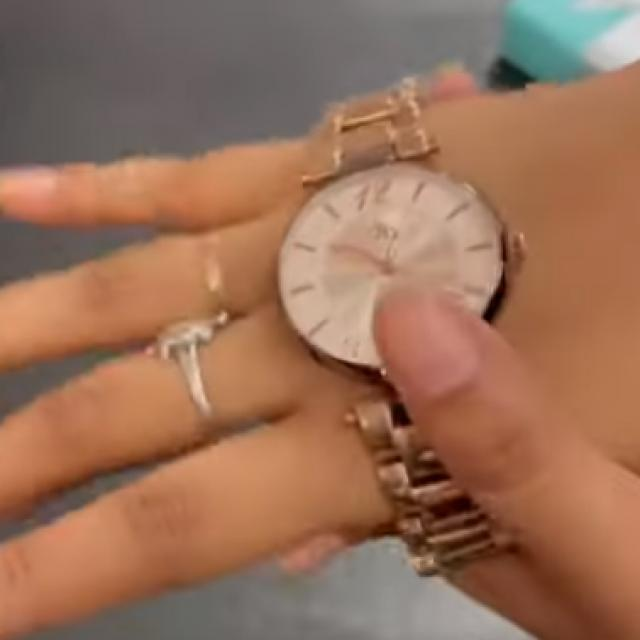Watch: (278, 85, 530, 578)
